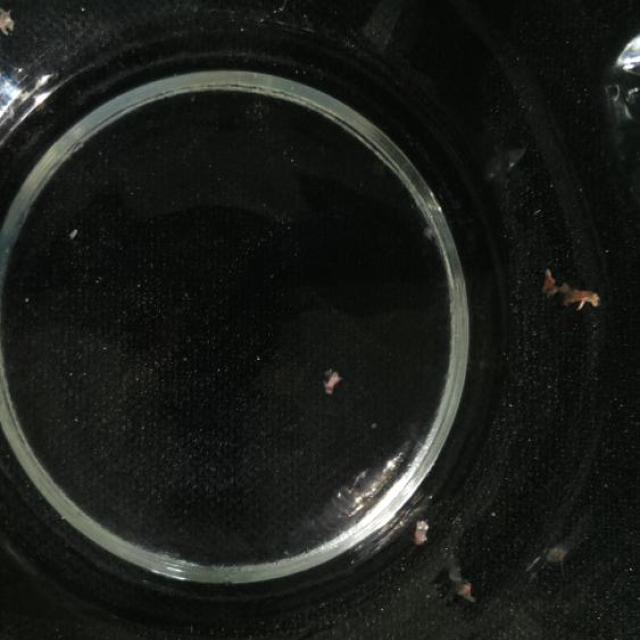fiber: (528, 261, 612, 321), (406, 517, 444, 554), (0, 0, 27, 45), (321, 367, 346, 406)
